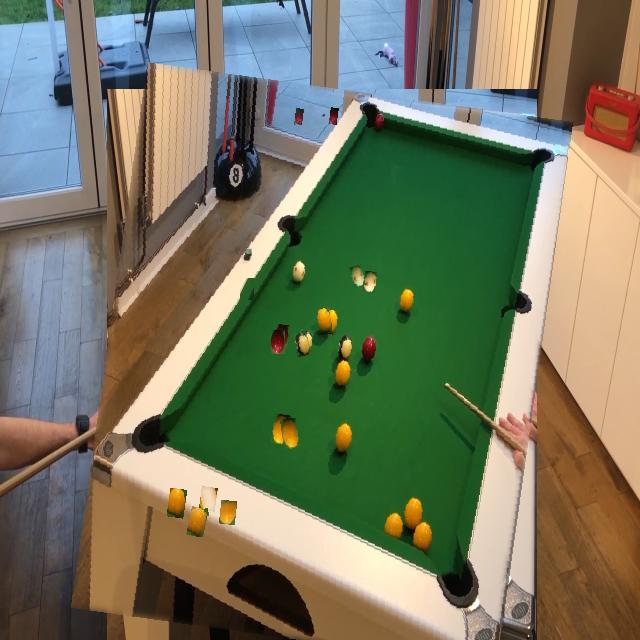Ball: (200, 482, 220, 516), (188, 507, 207, 536), (281, 419, 299, 449), (292, 357, 309, 384), (219, 501, 237, 525), (294, 332, 310, 356), (317, 309, 332, 333), (271, 330, 285, 354), (351, 264, 365, 287), (240, 278, 254, 300), (294, 108, 304, 125)
Billiard table: (88, 75, 555, 640)
